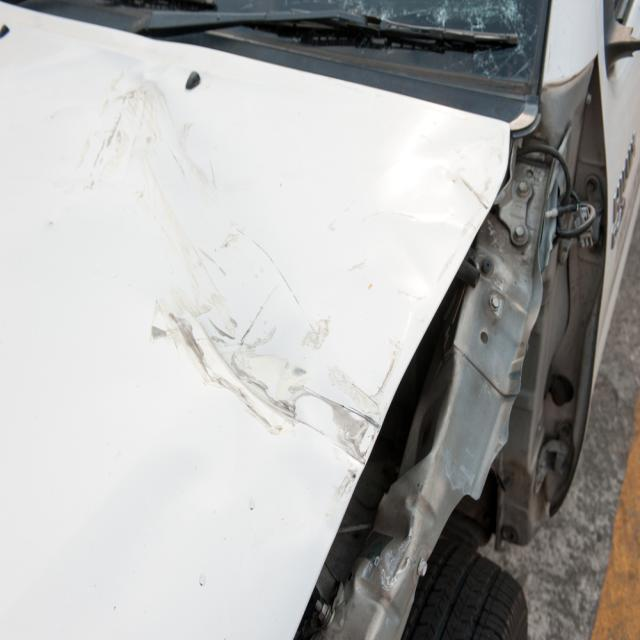scratch: (68, 52, 386, 473)
